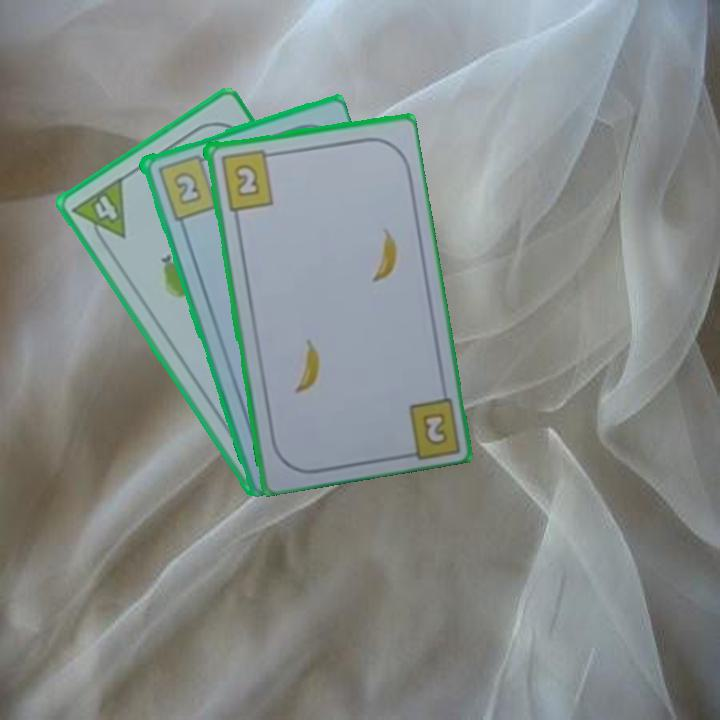2b: (153, 151, 220, 223), (217, 145, 278, 213), (418, 408, 451, 449)
4p: (68, 173, 129, 252)
